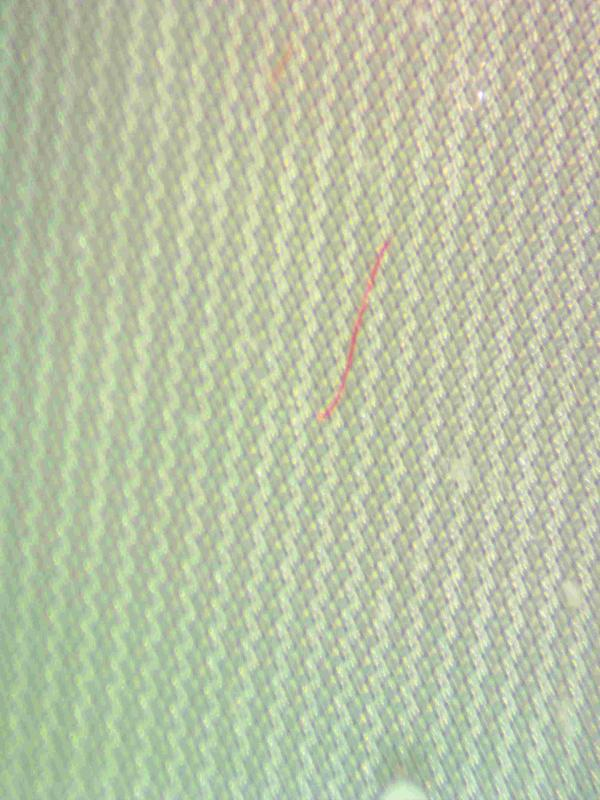microplastic: (1, 1, 598, 798), (314, 231, 393, 425)
